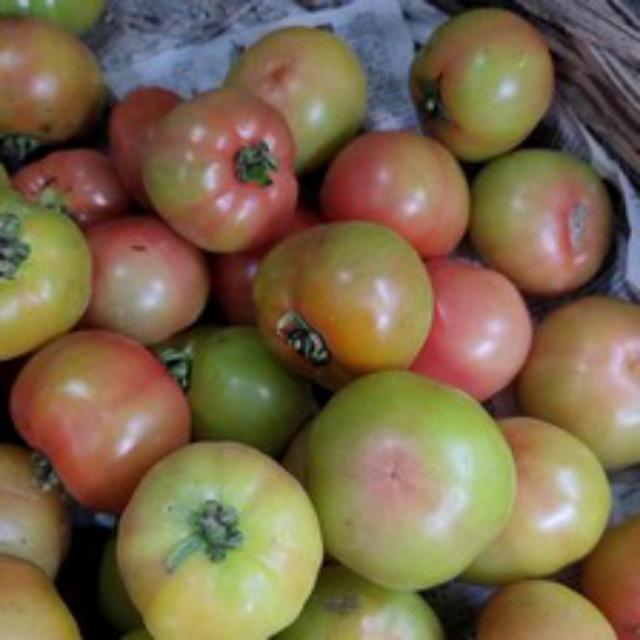tomato: (5, 322, 196, 506), (137, 81, 301, 243)
